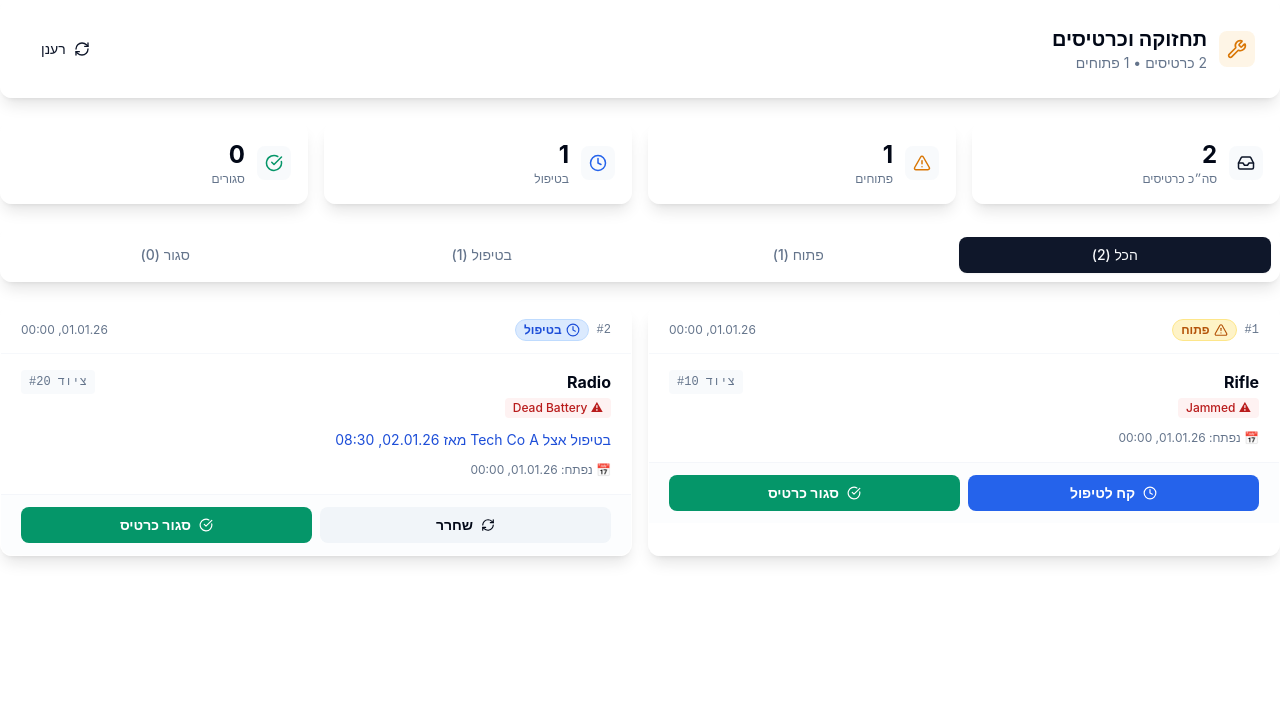
Scenario: MaintenancePage takes and releases a ticket (DATA-M22) › while a take is out, that ticket waits and another ticket does not
expect the heading "Rifle" is shown: met, box [1224,372,1259,392]
Click the button "קח לטיפול": (1114,493) [968,475,1259,511]
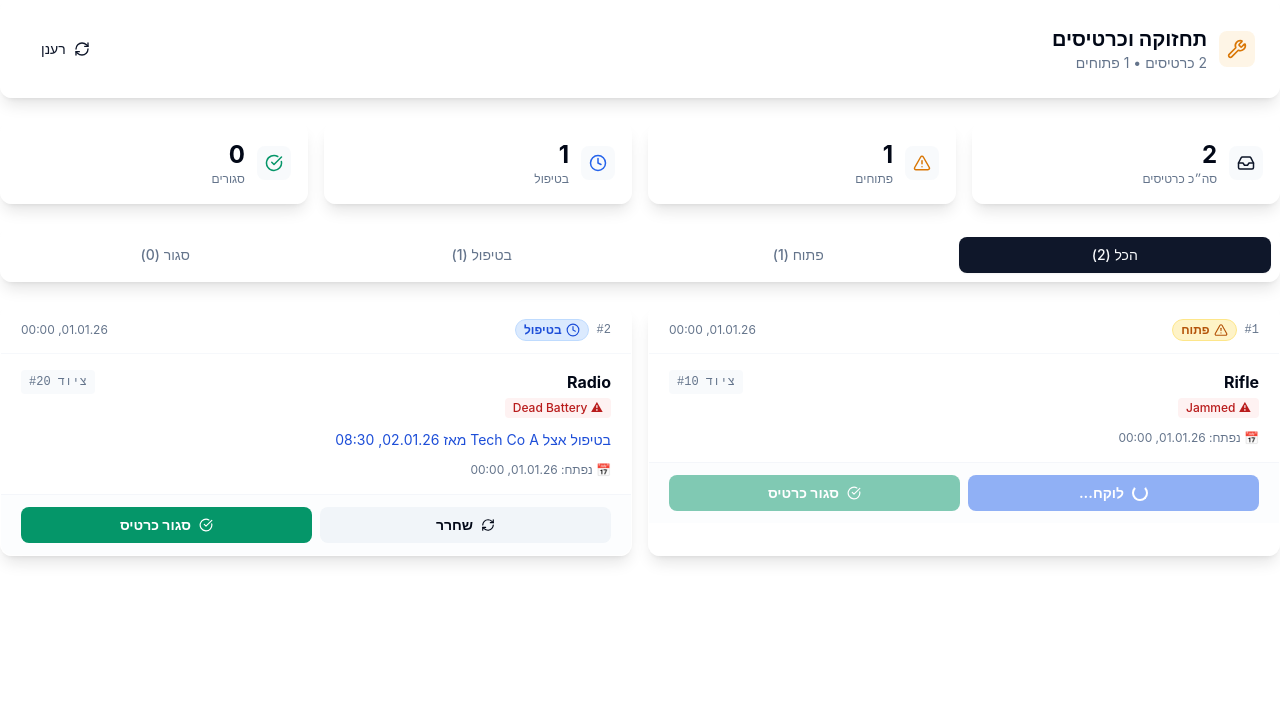
expect the button "שחרר" is enabled: met, box [320,507,611,543]
expect the button "לוקח..." is disabled: met, box [968,475,1259,511]
expect the button "סגור כרטיס" below "Jammed" is disabled: met, box [669,475,960,511]
